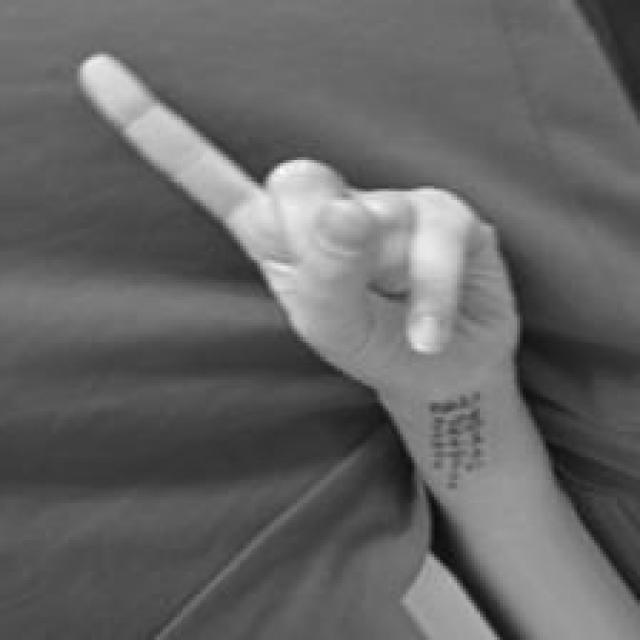I: (69, 42, 526, 390)
